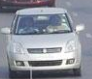car: (1, 7, 87, 76)
